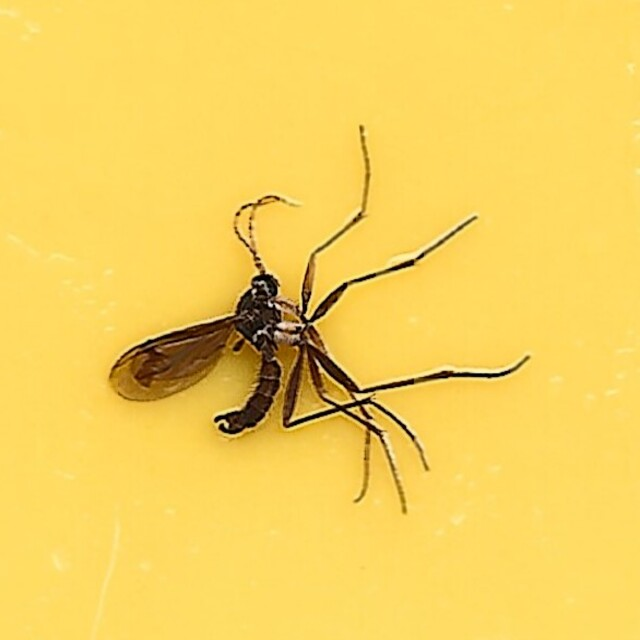Nematocera: (109, 124, 531, 516)
